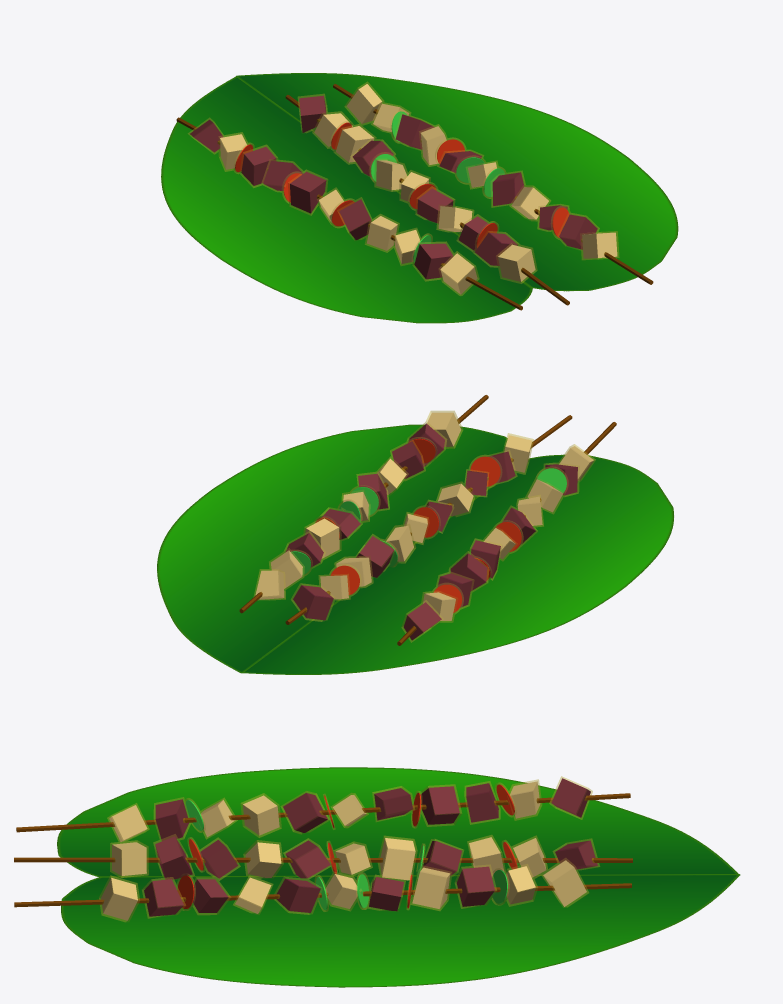
The model's file is glased mushroom kabobs.fbx.
3 views of the same model, one above another, from view 1: azimuth 30°, elevation 25°; view 2: azimuth 150°, elevation 25°; view 3: azimuth 270°, elevation 25° (orthographic). The views are drawn at different scales.
Visible parts, largest first — view 1: plate; view 2: plate; view 3: plate.
Boxes of the visible parts, box(x1,y1,x2,y2) form: plate: box(161, 73, 678, 323); plate: box(157, 395, 673, 674); plate: box(14, 767, 740, 987).
Bounding box in the file's own units: 200 × 21.14 × 281.
